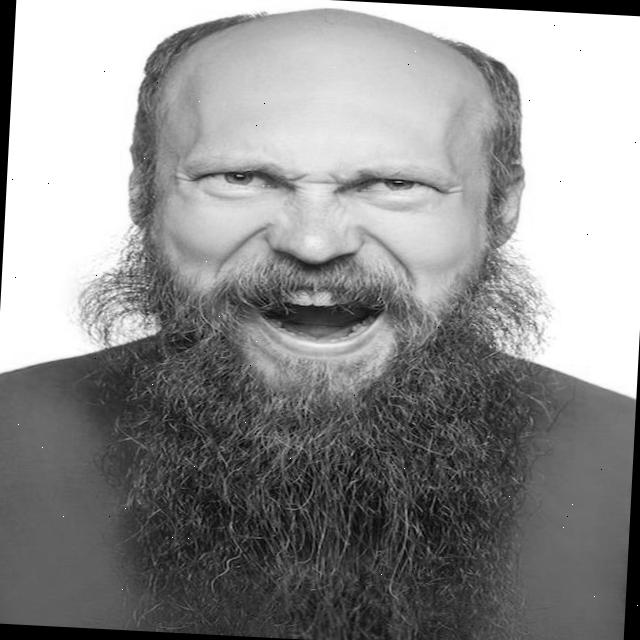Angry: (136, 42, 498, 530)
